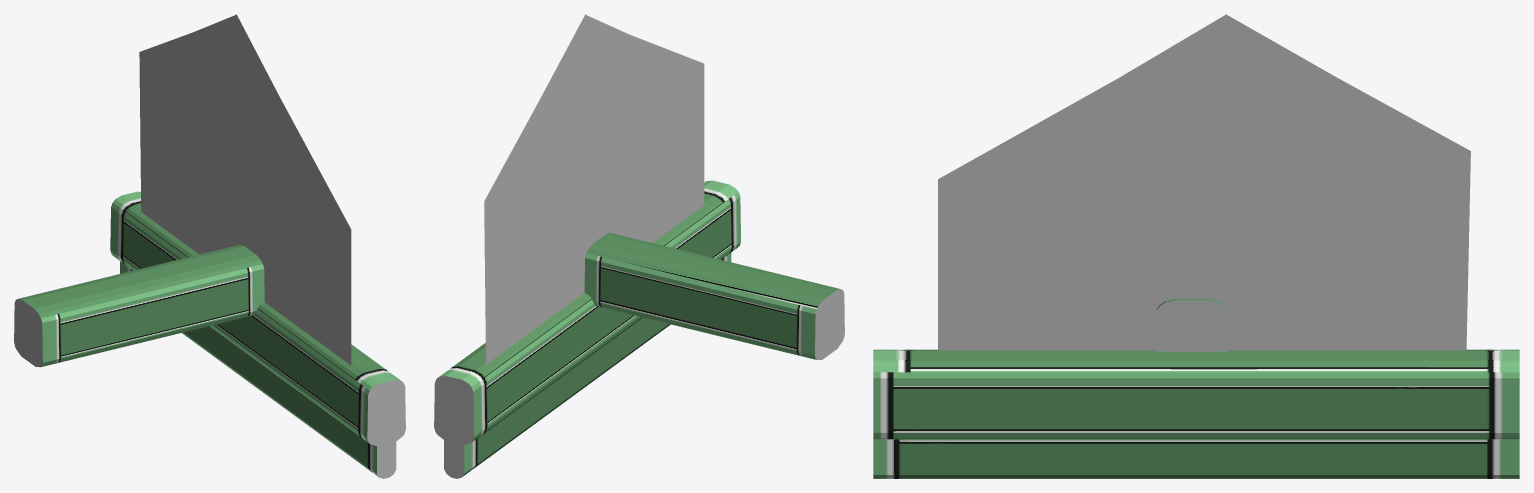
Rendered from SM_R_MiddleBeam_15.fbx.
The picture shows the model from 3 angles, left to right: view 1: azimuth 30°, elevation 25°; view 2: azimuth 150°, elevation 25°; view 3: azimuth 270°, elevation 25°; orthographic projection. The views are drawn at different scales.
Visible parts, largest first — view 1: SM_R_MiddleBeam_15_LOD0; view 2: SM_R_MiddleBeam_15_LOD0; view 3: SM_R_MiddleBeam_15_LOD0.
Boxes of the visible parts, box(x1,y1,x2,y2) form: SM_R_MiddleBeam_15_LOD0: box(14, 14, 405, 478); SM_R_MiddleBeam_15_LOD0: box(434, 14, 844, 478); SM_R_MiddleBeam_15_LOD0: box(873, 14, 1519, 478).
Size of the model in its own units: 137 by 243 by 190.
